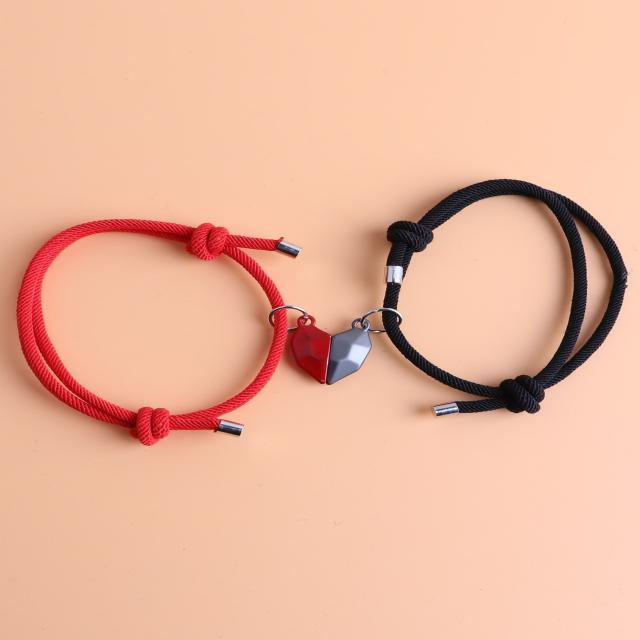bracelet: (0, 122, 346, 529), (334, 113, 640, 450)
